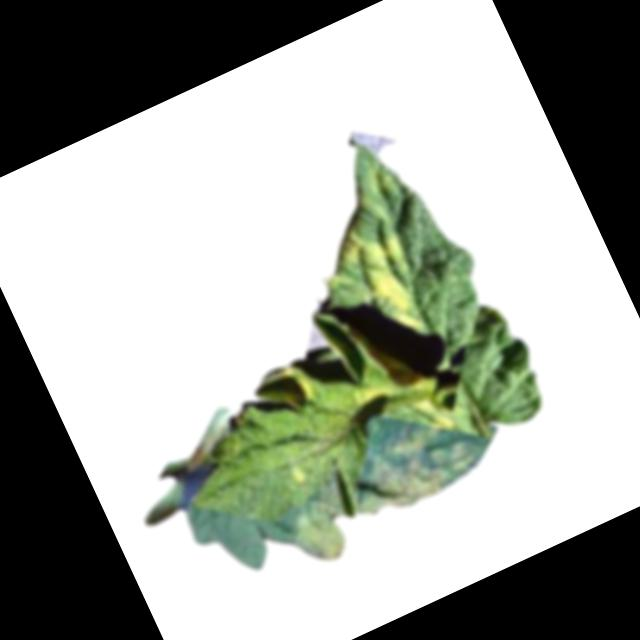Leaf_Mold: (273, 411, 489, 570), (330, 209, 441, 343), (344, 330, 455, 458), (247, 356, 321, 425), (279, 455, 312, 489)
